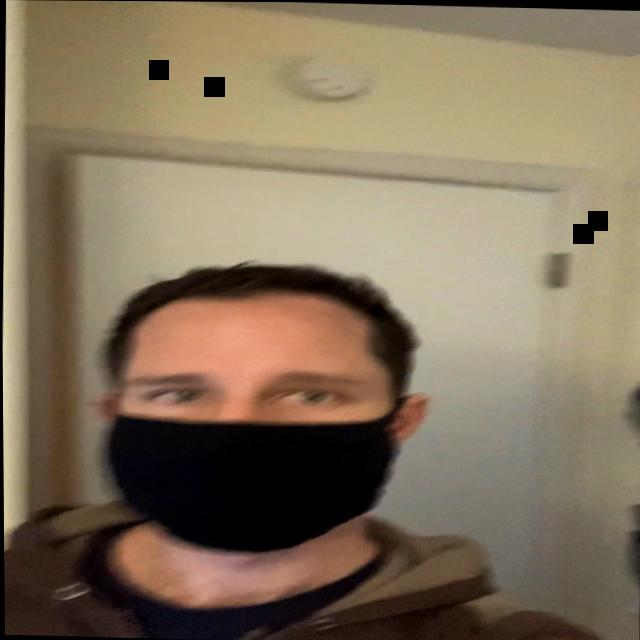Mask: (71, 263, 435, 612)
